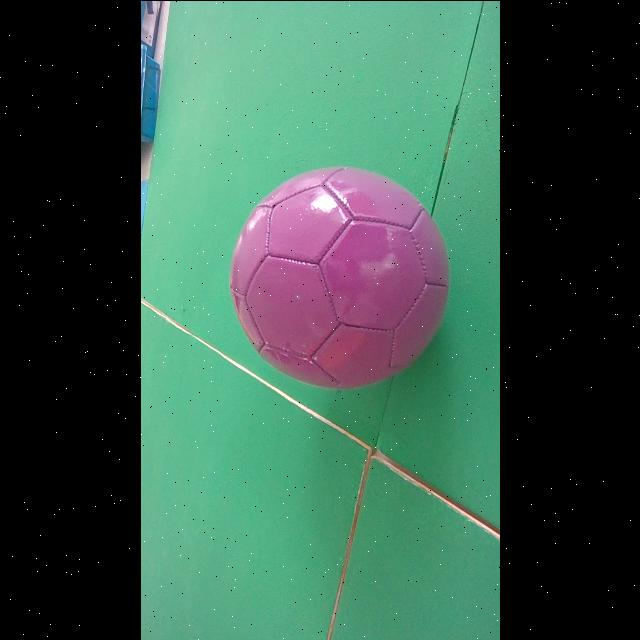P: (229, 166, 449, 387)
